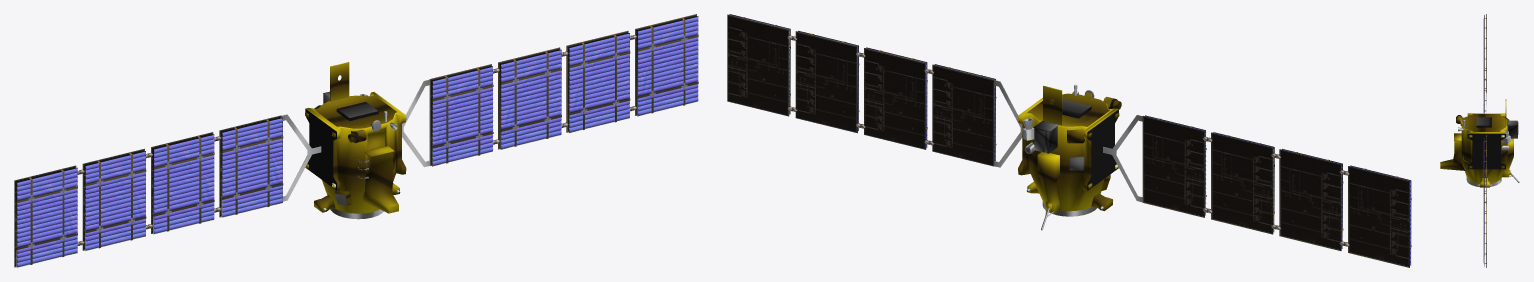
Rendered from Deep_Space.glb.
3 renders of one model, left to right at view 1: azimuth 30°, elevation 25°; view 2: azimuth 150°, elevation 25°; view 3: azimuth 270°, elevation 25°, orthographic. The views are drawn at different scales.
Visible parts, largest first — view 1: shiny_panel, tex_01, foil_gold, black_krinkle, foil_silver; view 2: tex_01, foil_gold, black_krinkle, foil_silver, shiny_panel; view 3: foil_gold, black_krinkle, tex_01, foil_silver, shiny_panel.
Boxes of the visible parts, x1,y1,x2,y2 form: shiny_panel: (17,17,698,267); tex_01: (14,14,698,267); foil_gold: (305,62,406,213); black_krinkle: (305,109,378,190); foil_silver: (323,91,377,178); tex_01: (727,14,1411,267); foil_gold: (1018,86,1121,213); black_krinkle: (1062,106,1118,190); foil_silver: (1033,99,1090,170); shiny_panel: (730,14,1410,265); foil_gold: (1440,99,1513,187); black_krinkle: (1467,125,1505,169); tex_01: (1456,14,1519,267); foil_silver: (1476,117,1518,138); shiny_panel: (1484,15,1484,266).
Size of the model in its own units: 11.8 by 2.22 by 1.96.
5 materials, 4 textured.
